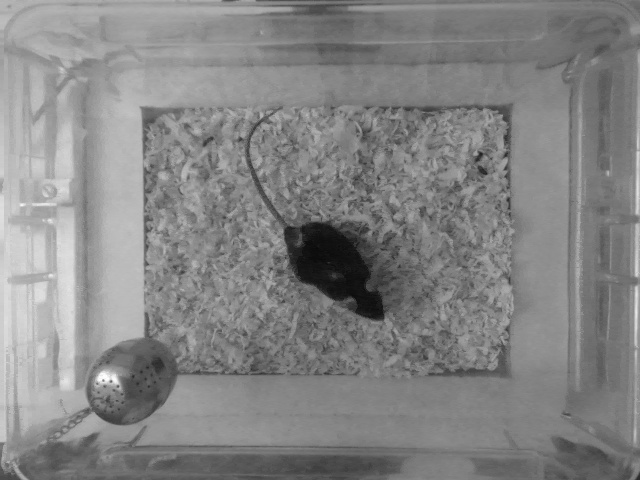mice: (241, 106, 392, 324)
